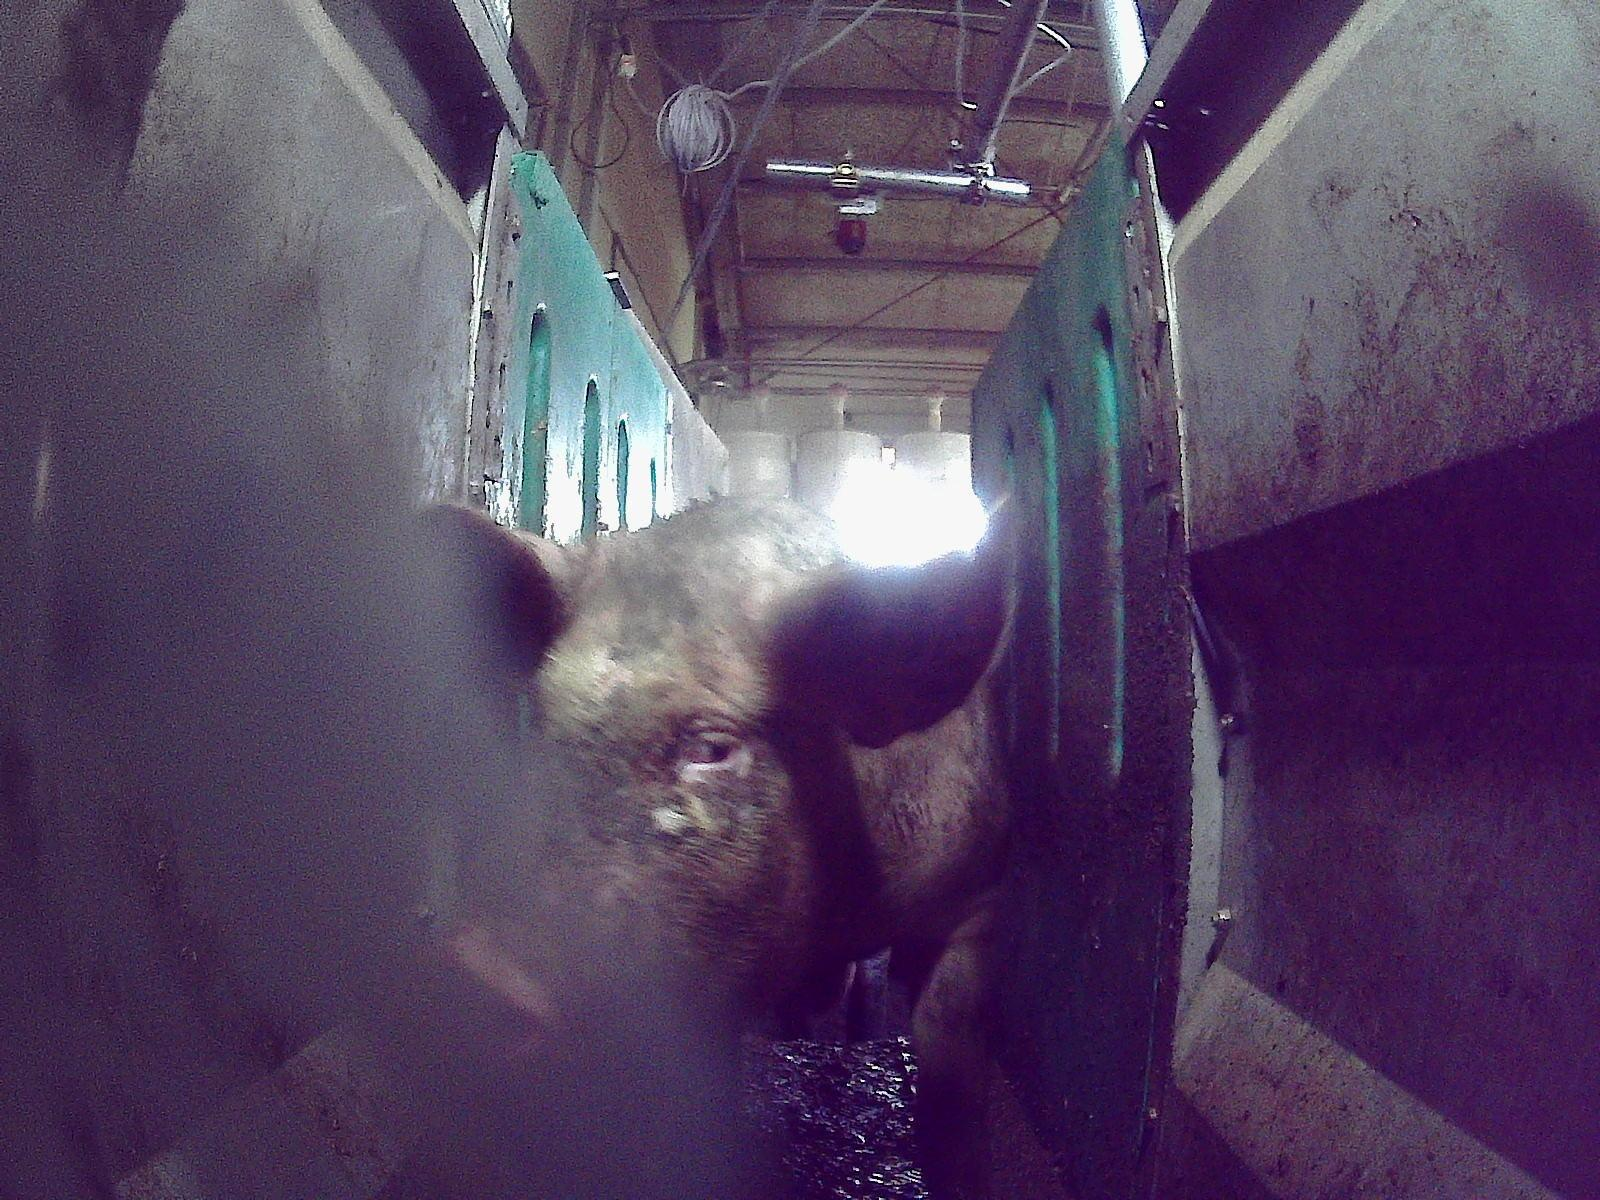Face: (390, 525, 848, 1064)
